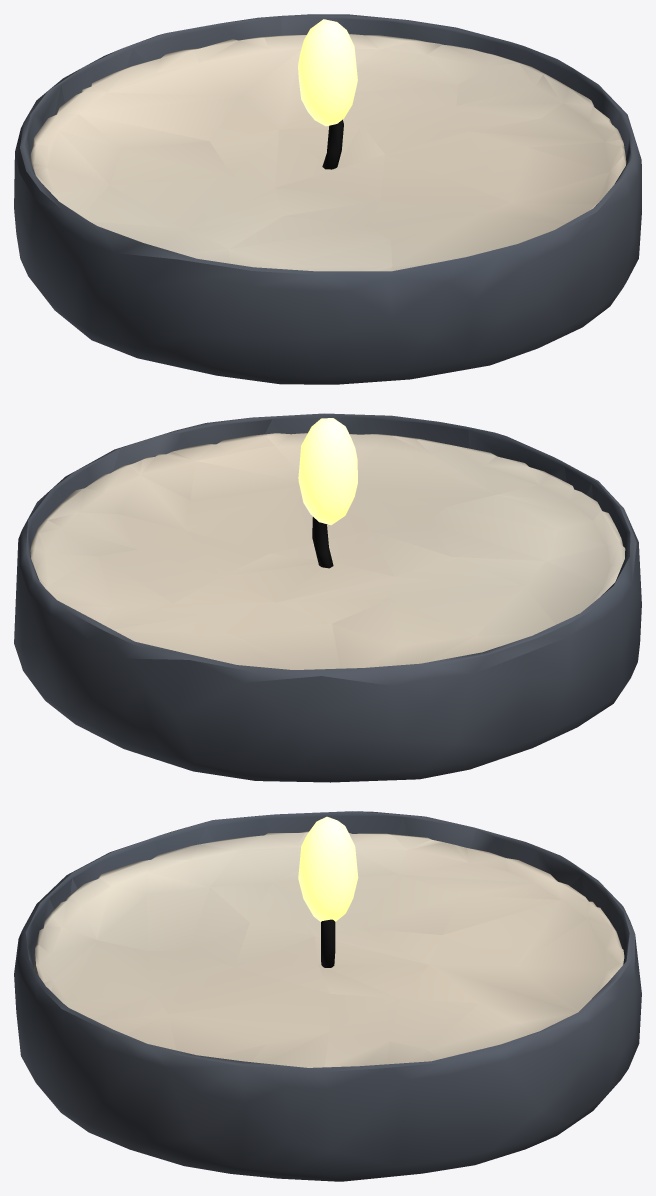
File: frost_tealight_lod1.glb
3 views of the same model, one above another, from view 1: azimuth 30°, elevation 25°; view 2: azimuth 150°, elevation 25°; view 3: azimuth 270°, elevation 25° (orthographic).
Visible parts, largest first — view 1: frost_tealight.001, flame.001; view 2: frost_tealight.001, flame.001; view 3: frost_tealight.001, flame.001.
Part boxes in pixels (bbox=[...]): frost_tealight.001: bbox=[14, 14, 641, 384]; flame.001: bbox=[298, 19, 357, 126]; frost_tealight.001: bbox=[14, 413, 641, 782]; flame.001: bbox=[298, 418, 357, 525]; frost_tealight.001: bbox=[14, 811, 641, 1181]; flame.001: bbox=[298, 816, 358, 921].
Bounding box in the file's own units: 12.41 × 5.38 × 12.53.
